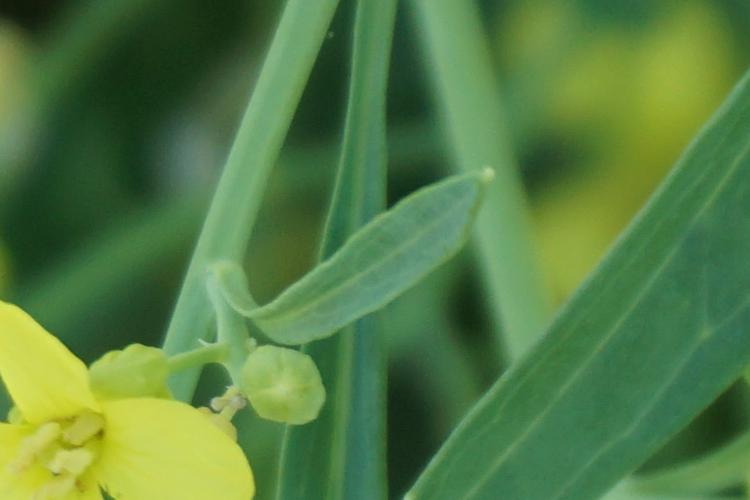bud: (226, 343, 335, 427)
yellow: (1, 296, 256, 500)
